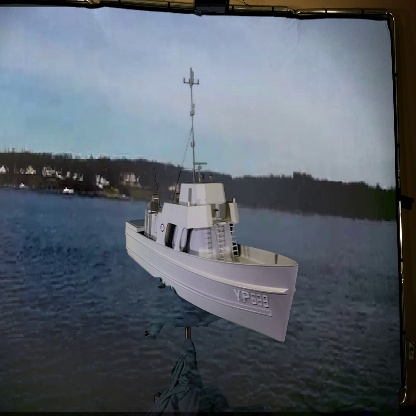YP689: (126, 67, 300, 343)
